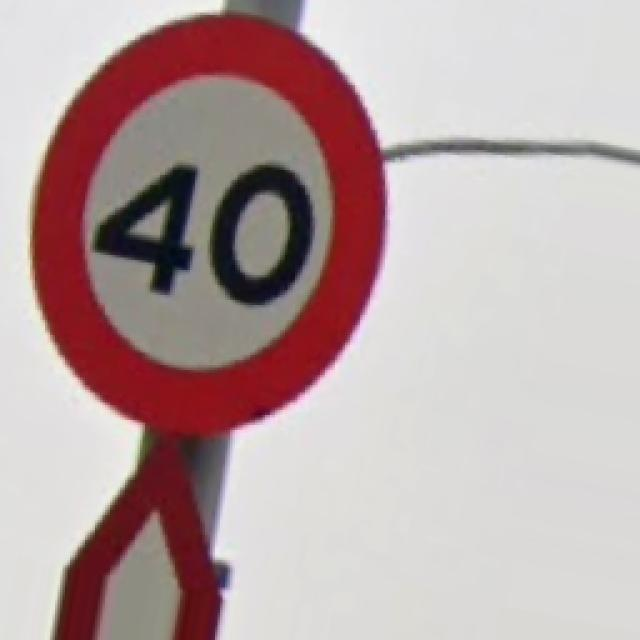Speed Limit -40-: (32, 15, 382, 432)
